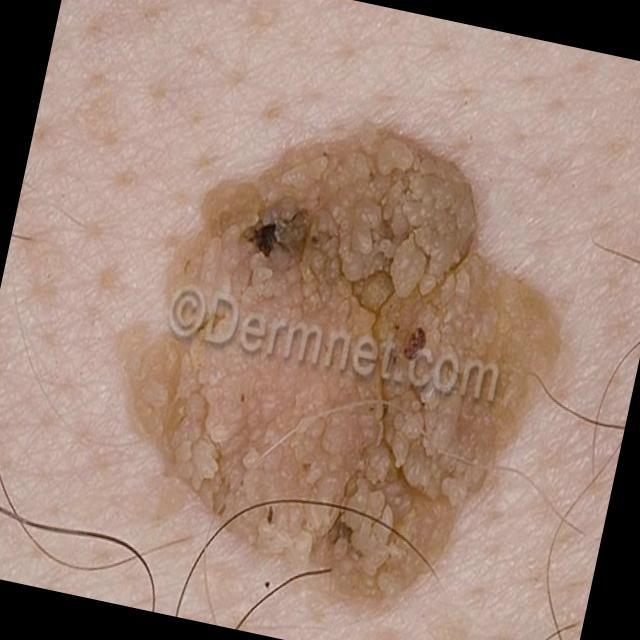Eczema: (125, 116, 552, 596)
